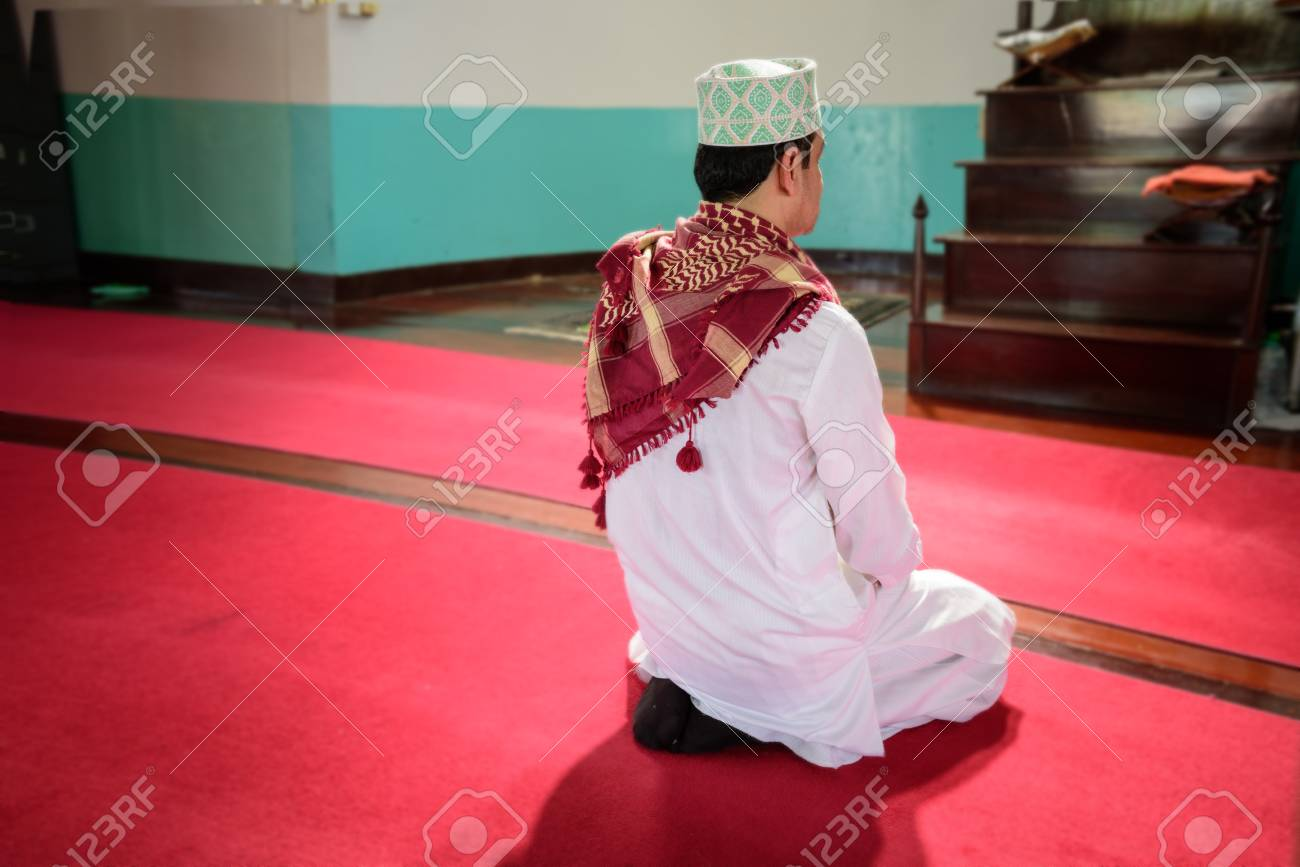sitting: (583, 56, 1019, 772)
